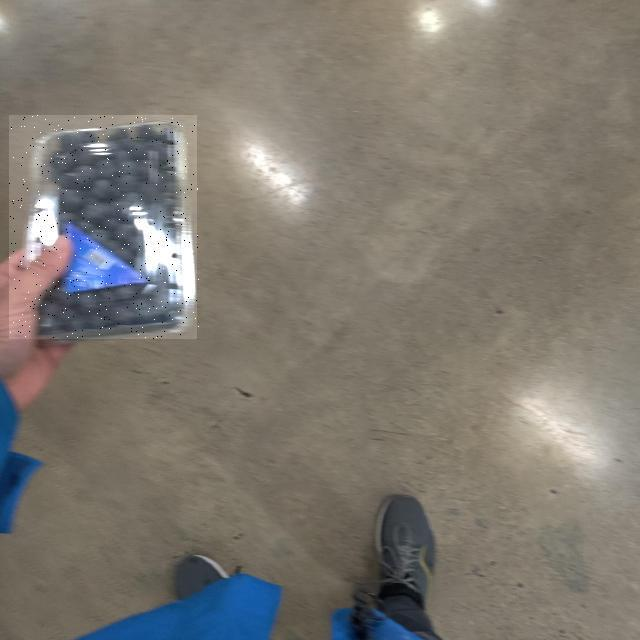Blue Berries: (10, 115, 200, 339)
